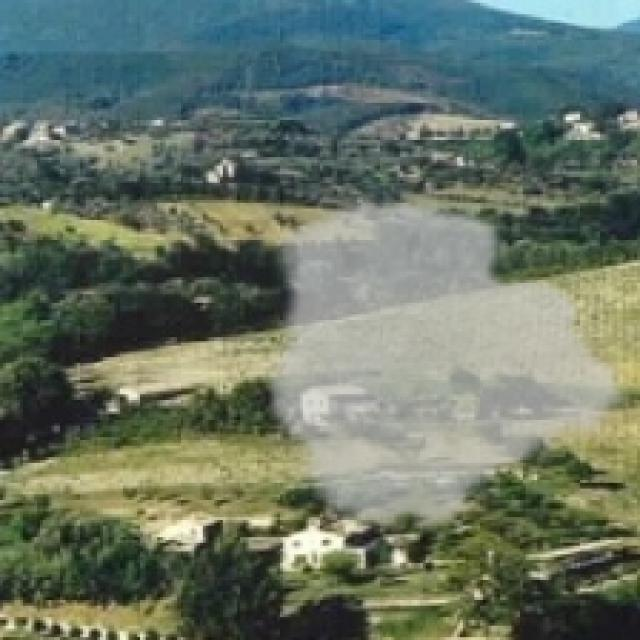Smoke: (262, 195, 634, 540)
